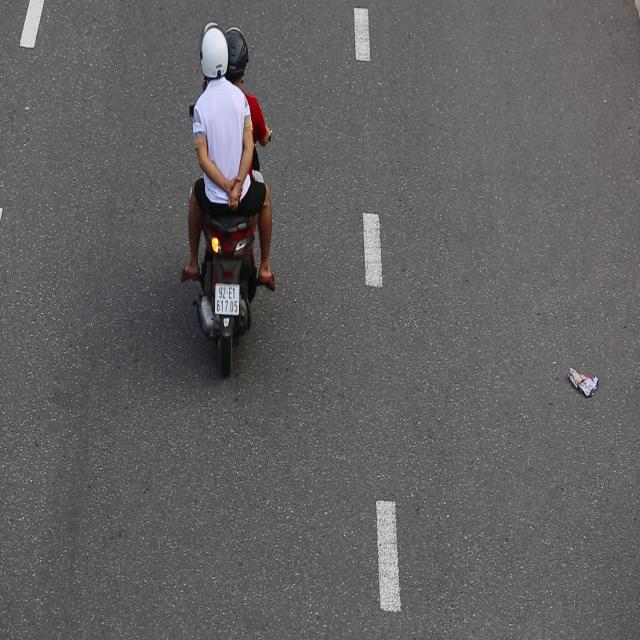motorbike: (179, 14, 282, 394)
